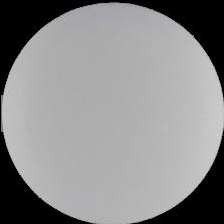68788-9390: (0, 0, 224, 224)
